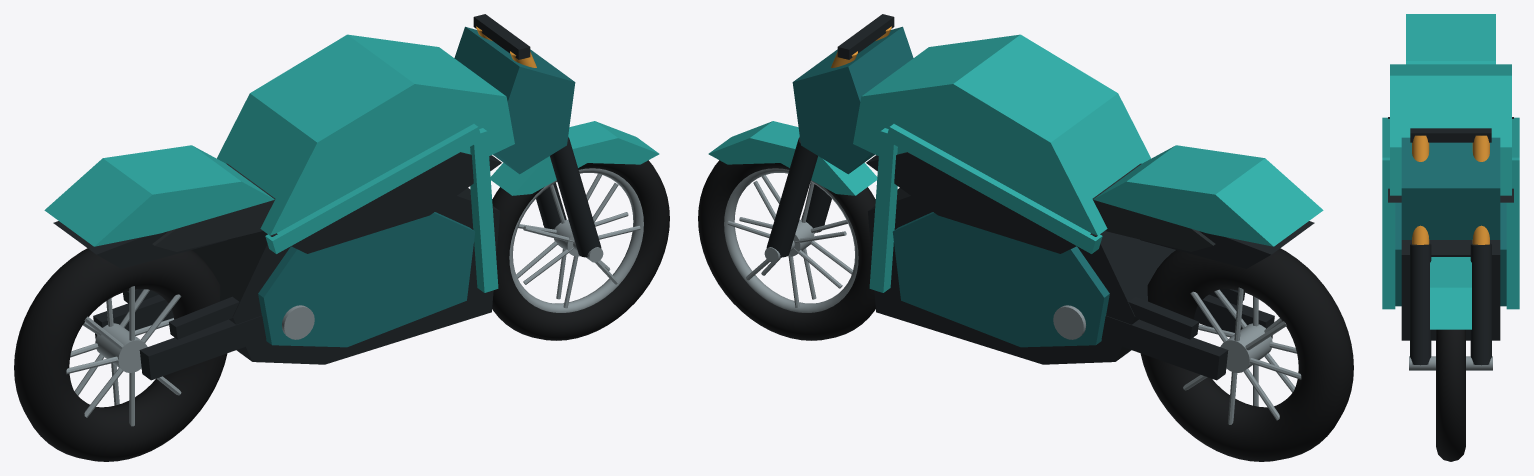
The model's file is motor.glb.
The picture shows the model from 3 angles, left to right: view 1: azimuth 30°, elevation 25°; view 2: azimuth 150°, elevation 25°; view 3: azimuth 270°, elevation 25°; orthographic projection. The views are drawn at different scales.
Visible parts, largest first — view 1: Main_Upper_Body, Rear_Wheel_Tire, Battery_Side_Panel_L, Tail_Section, Front_Wheel_Tire, Battery_Motor_Core, Headlight_Cowl, Body_Black_Waist, Main_Frame_Rail_L, Front_Fender, Rear_Swingarm_L, Frame_Downtube_L (+10 smaller); view 2: Main_Upper_Body, Rear_Wheel_Tire, Battery_Side_Panel_R, Tail_Section, Front_Wheel_Tire, Battery_Motor_Core, Headlight_Cowl, Body_Black_Waist, Main_Frame_Rail_R, Front_Fender, Rear_Swingarm_R, Frame_Downtube_R (+10 smaller); view 3: Main_Upper_Body, Headlight_Cowl, Tail_Section, Front_Wheel_Tire, Front_Fender, Battery_Motor_Core, Fork_Lower_L, Fork_Lower_R, Frame_Downtube_L, Frame_Downtube_R, Upper_Triple_Clamp, Battery_Side_Panel_L (+7 smaller).
Boxes of the visible parts, <box> form: Main_Upper_Body: <box>217,34,514,235</box>; Rear_Wheel_Tire: <box>14,248,227,461</box>; Battery_Side_Panel_L: <box>258,212,475,347</box>; Tail_Section: <box>44,145,274,246</box>; Front_Wheel_Tire: <box>492,160,669,340</box>; Battery_Motor_Core: <box>192,188,499,364</box>; Headlight_Cowl: <box>454,26,575,174</box>; Body_Black_Waist: <box>270,152,501,253</box>; Main_Frame_Rail_L: <box>265,124,482,253</box>; Front_Fender: <box>490,121,659,195</box>; Rear_Swingarm_L: <box>139,315,266,380</box>; Frame_Downtube_L: <box>470,128,498,292</box>; Main_Upper_Body: <box>853,34,1150,235</box>; Rear_Wheel_Tire: <box>1140,248,1353,461</box>; Battery_Side_Panel_R: <box>892,212,1109,347</box>; Tail_Section: <box>1093,145,1323,246</box>; Front_Wheel_Tire: <box>698,160,875,340</box>; Battery_Motor_Core: <box>868,188,1175,364</box>; Headlight_Cowl: <box>792,26,913,174</box>; Body_Black_Waist: <box>866,152,1097,253</box>; Main_Frame_Rail_R: <box>887,124,1102,253</box>; Front_Fender: <box>708,121,877,195</box>; Rear_Swingarm_R: <box>1101,315,1228,380</box>; Frame_Downtube_R: <box>869,128,897,292</box>; Main_Upper_Body: <box>1390,64,1511,195</box>; Headlight_Cowl: <box>1401,137,1500,239</box>; Tail_Section: <box>1406,14,1495,64</box>; Front_Wheel_Tire: <box>1436,329,1465,461</box>; Front_Fender: <box>1430,257,1471,329</box>; Battery_Motor_Core: <box>1401,240,1500,340</box>; Fork_Lower_L: <box>1410,243,1431,365</box>; Fork_Lower_R: <box>1470,243,1491,365</box>; Frame_Downtube_L: <box>1382,157,1395,309</box>; Frame_Downtube_R: <box>1506,157,1519,309</box>; Upper_Triple_Clamp: <box>1410,128,1491,142</box>; Battery_Side_Panel_L: <box>1395,202,1401,306</box>.
Size of the model in its own units: 2.34 by 1.15 by 0.475.
